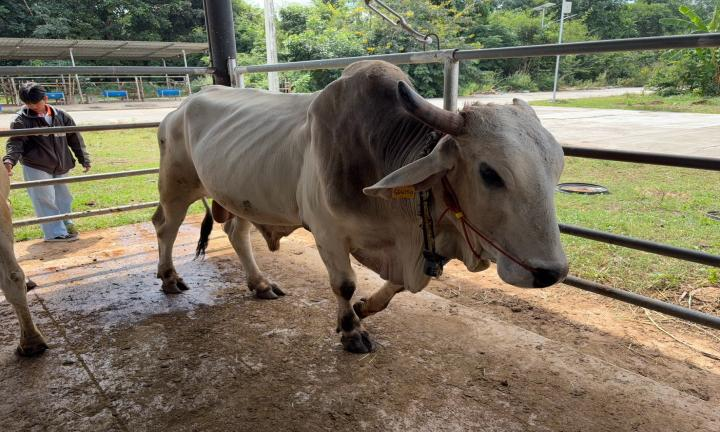Brahman: (153, 60, 567, 352)
